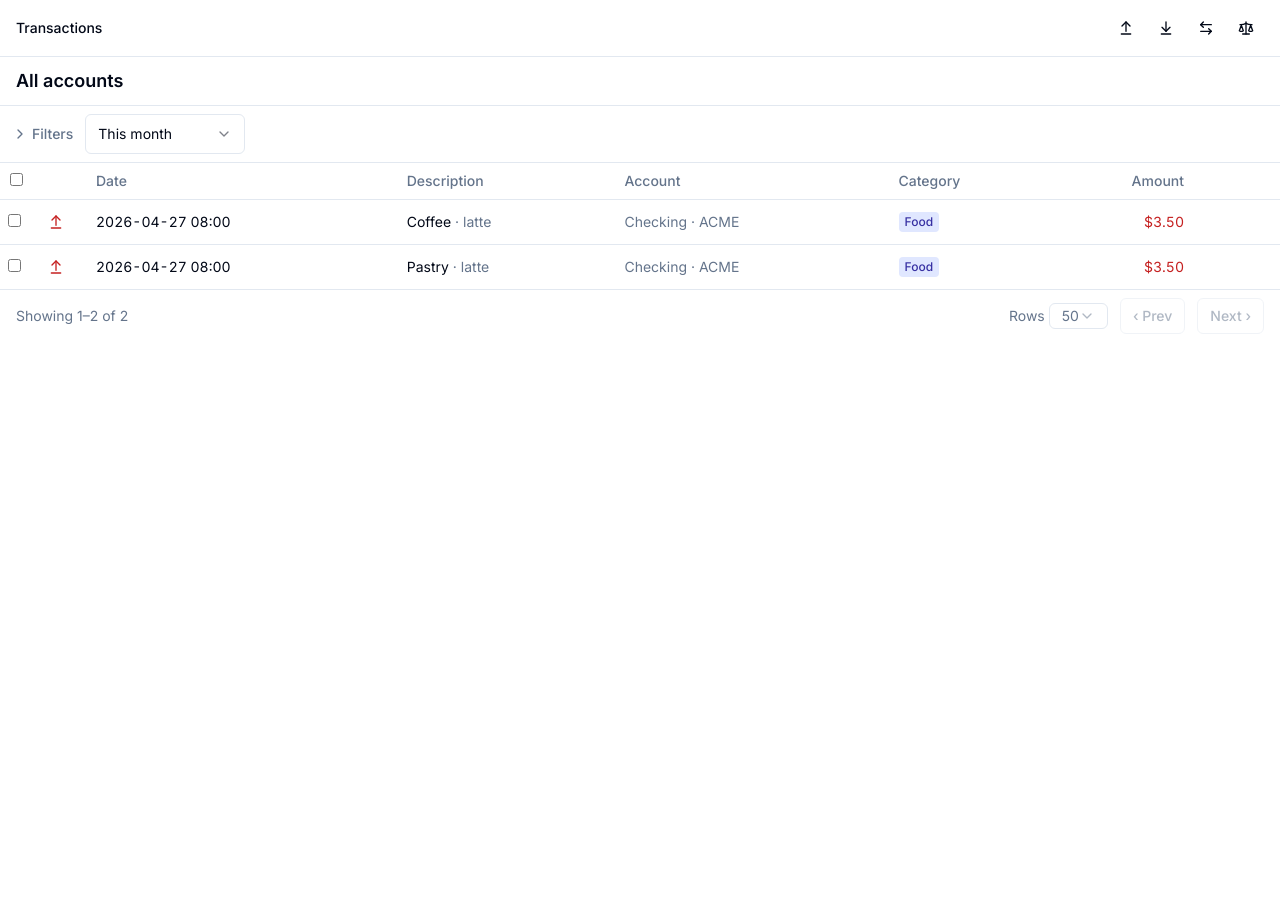
Test: TransactionsPane — selection-driven merge › header checkbox selects and clears every row on the page
expect the text "Coffee" is shown: met, box left=407, top=213, right=451, bottom=230
Click the checkbox named "select all": (16, 180) left=10, top=173, right=22, bottom=186
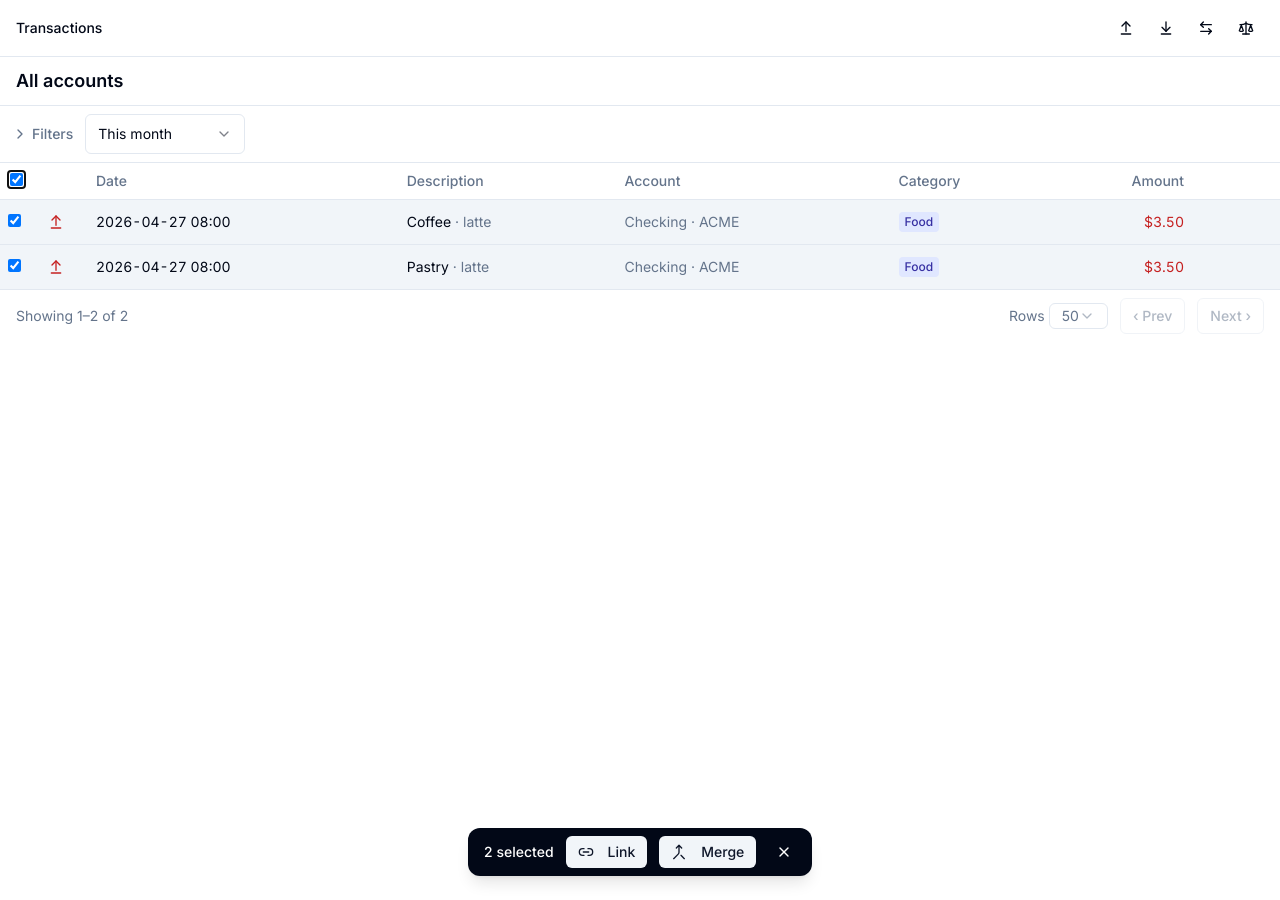
expect the checkbox named "select coffee" is checked: met, box left=8, top=214, right=21, bottom=227
expect the checkbox named "select pastry" is checked: met, box left=8, top=259, right=21, bottom=272
expect the element named "selection actions" shows "2 selected": met, box left=484, top=843, right=554, bottom=860
Click the checkbox named "select all": (16, 180) left=10, top=173, right=22, bottom=186
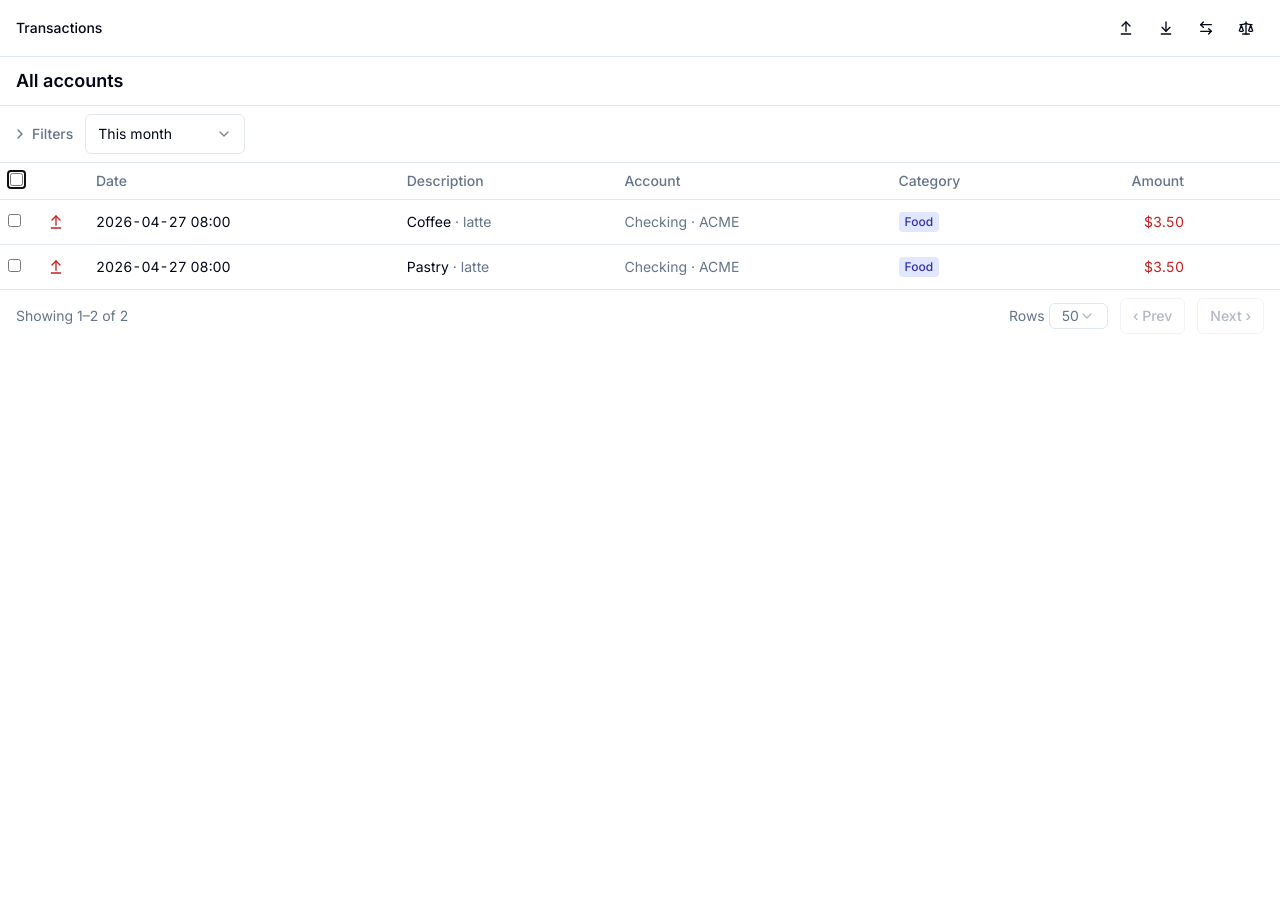
expect the checkbox named "select coffee" is not checked: met, box left=8, top=214, right=21, bottom=227
